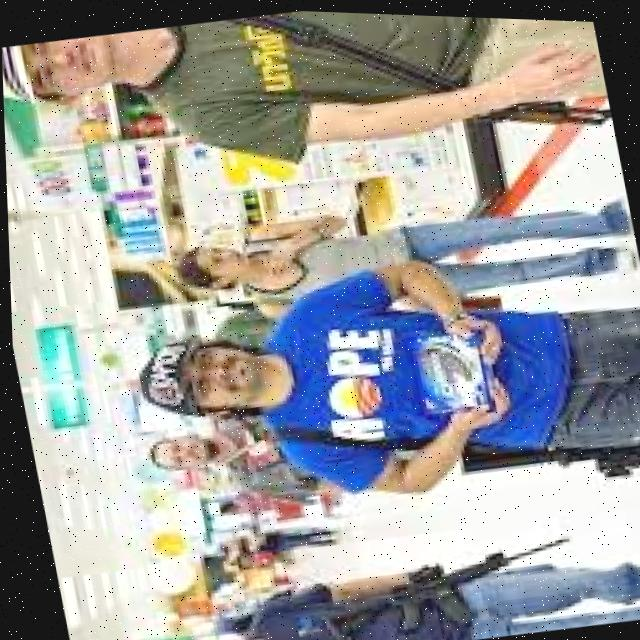firearm: (310, 524, 579, 640), (485, 86, 617, 159)
